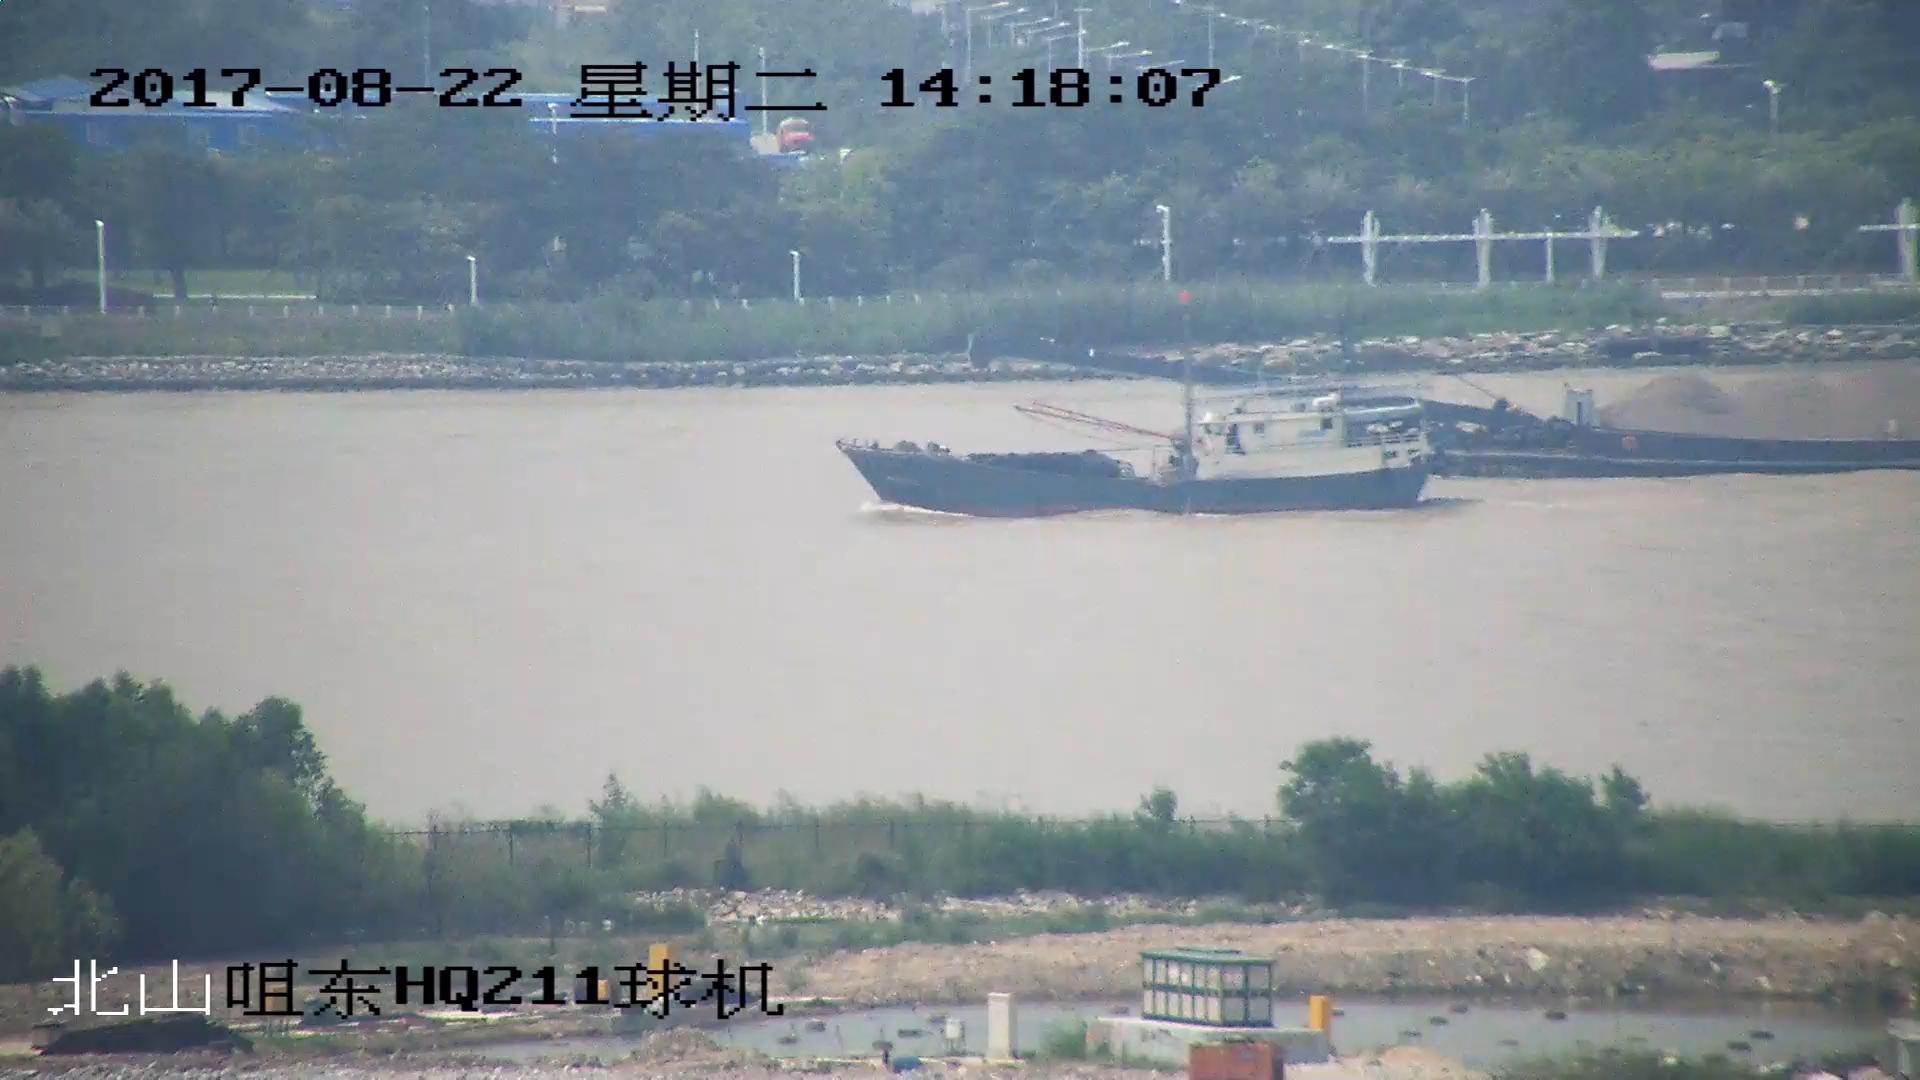fishing boat: (836, 291, 1451, 516)
ore carrier: (970, 331, 1920, 474)
